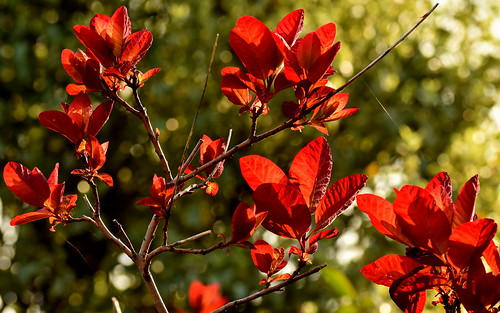vegetation: (1, 1, 494, 309)
